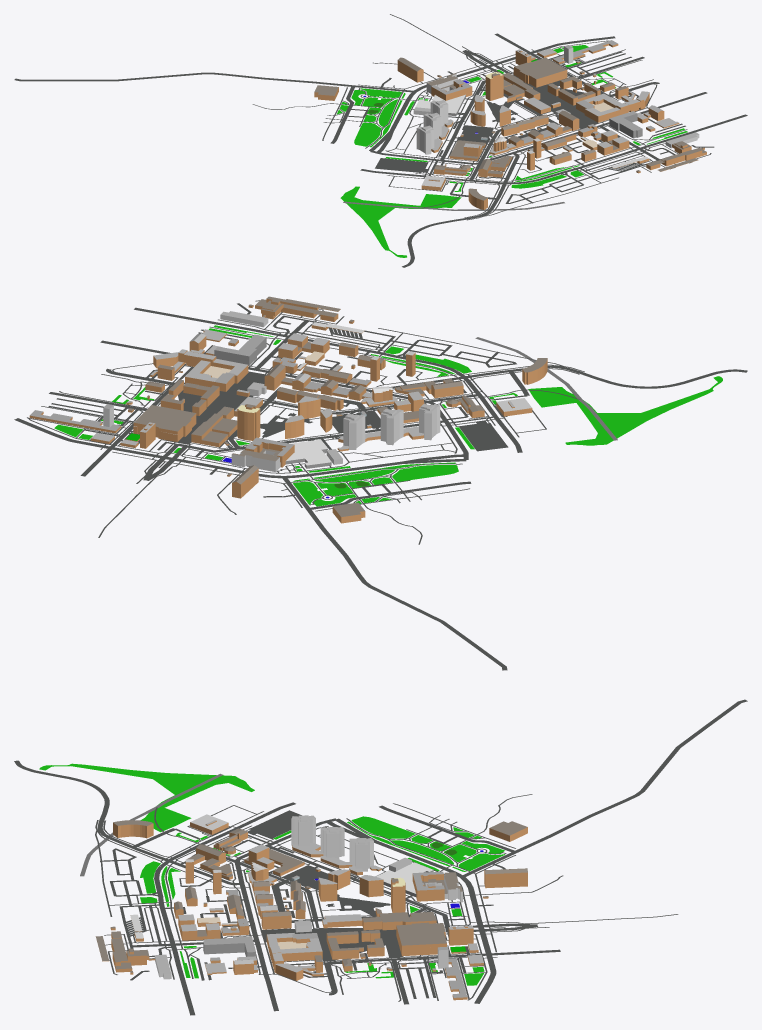
Rendered from Terraintesti.fbx.
The picture shows the model from 3 angles, top to bottom: view 1: azimuth 30°, elevation 25°; view 2: azimuth 150°, elevation 25°; view 3: azimuth 270°, elevation 25°; orthographic projection. The views are drawn at different scales.
Visible parts, largest first — view 1: map_4.osm_buildings, map_4.osm_vegetation, map_4.osm_paths_cycleway, map_4.osm_roads_service, map_4.osm_paths_footway, map_4.osm_roads_unclassified, map_4.osm_areas_pedestrian, map_4.osm_roads_tertiary, map_4.osm_roads_residential, map_4.osm_roads_secondary, map_4.osm_railways; view 2: map_4.osm_buildings, map_4.osm_vegetation, map_4.osm_paths_footway, map_4.osm_paths_cycleway, map_4.osm_roads_service, map_4.osm_roads_unclassified, map_4.osm_areas_pedestrian, map_4.osm_roads_tertiary, map_4.osm_roads_secondary, map_4.osm_roads_residential; view 3: map_4.osm_buildings, map_4.osm_vegetation, map_4.osm_paths_footway, map_4.osm_paths_cycleway, map_4.osm_roads_service, map_4.osm_roads_unclassified, map_4.osm_areas_pedestrian, map_4.osm_roads_tertiary, map_4.osm_roads_residential, map_4.osm_roads_secondary, map_4.osm_railways.
Boxes of the visible parts, x1,y1,x2,y2 form: map_4.osm_buildings: (314,40,706,209); map_4.osm_vegetation: (337,45,687,257); map_4.osm_paths_cycleway: (322,14,711,220); map_4.osm_roads_service: (346,51,714,203); map_4.osm_paths_footway: (252,47,692,191); map_4.osm_roads_unclassified: (14,56,659,267); map_4.osm_areas_pedestrian: (375,75,597,172); map_4.osm_roads_tertiary: (360,92,747,184); map_4.osm_roads_residential: (439,33,659,199); map_4.osm_roads_secondary: (369,36,615,153); map_4.osm_railways: (343,201,564,210); map_4.osm_buildings: (29,296,547,523); map_4.osm_vegetation: (54,325,722,506); map_4.osm_paths_footway: (41,308,546,544); map_4.osm_paths_cycleway: (27,300,584,537); map_4.osm_roads_service: (48,303,527,497); map_4.osm_roads_unclassified: (49,320,747,670); map_4.osm_areas_pedestrian: (178,372,508,451); map_4.osm_roads_tertiary: (100,307,522,459); map_4.osm_roads_secondary: (14,418,466,480); map_4.osm_roads_residential: (80,368,529,476); map_4.osm_buildings: (95,814,527,1000); map_4.osm_vegetation: (39,763,505,985); map_4.osm_paths_footway: (104,794,532,1000); map_4.osm_paths_cycleway: (95,803,678,1001); map_4.osm_roads_service: (100,813,505,998); map_4.osm_roads_unclassified: (14,699,747,1004); map_4.osm_areas_pedestrian: (248,810,403,961); map_4.osm_roads_tertiary: (154,802,337,1015); map_4.osm_roads_residential: (131,828,560,995); map_4.osm_roads_secondary: (326,818,537,1003); map_4.osm_railways: (80,773,222,876).
Bounding box in the file's own units: 101929 × 4600 × 100041.
